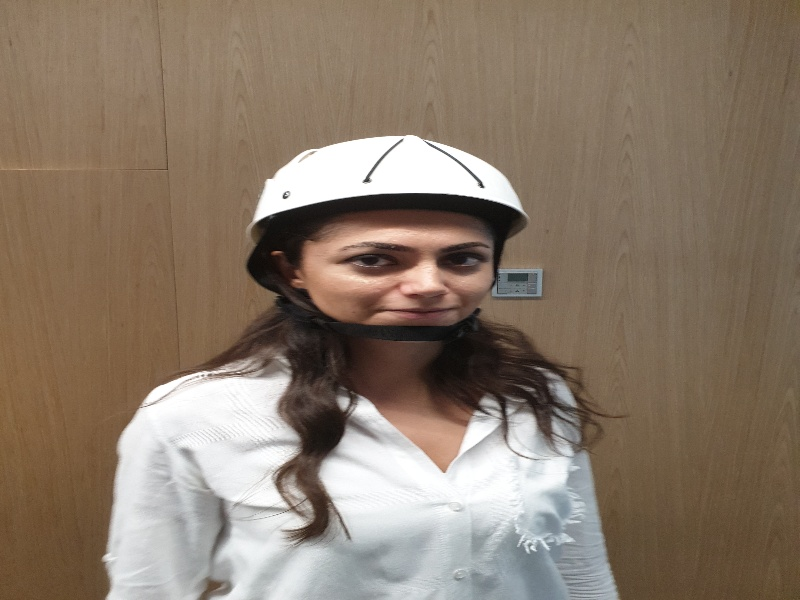Baret: (249, 133, 529, 227)
